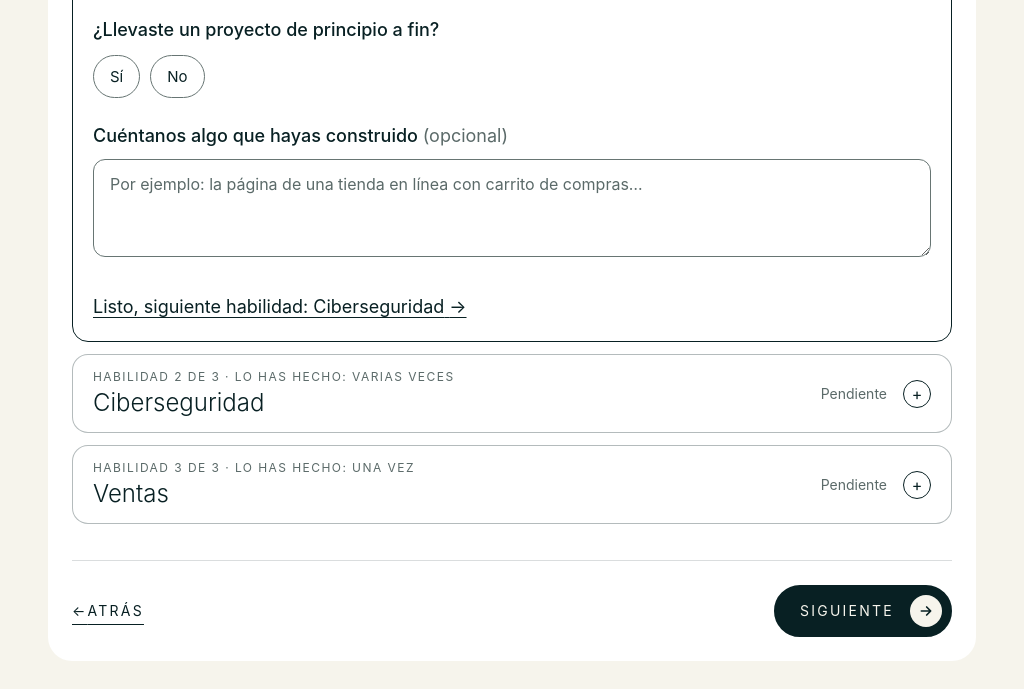
Test: ProfundizarView › "Listo, siguiente habilidad" abre la siguiente y lleva el foco a su título; la última no lo tiene
The width and height of the screenshot is (1024, 689).
(page scrolled)
Step 1. Click the button "Listo, siguiente habilidad: Ciberseguridad" → (280, 307), box [93, 293, 466, 322]
(page scrolled)
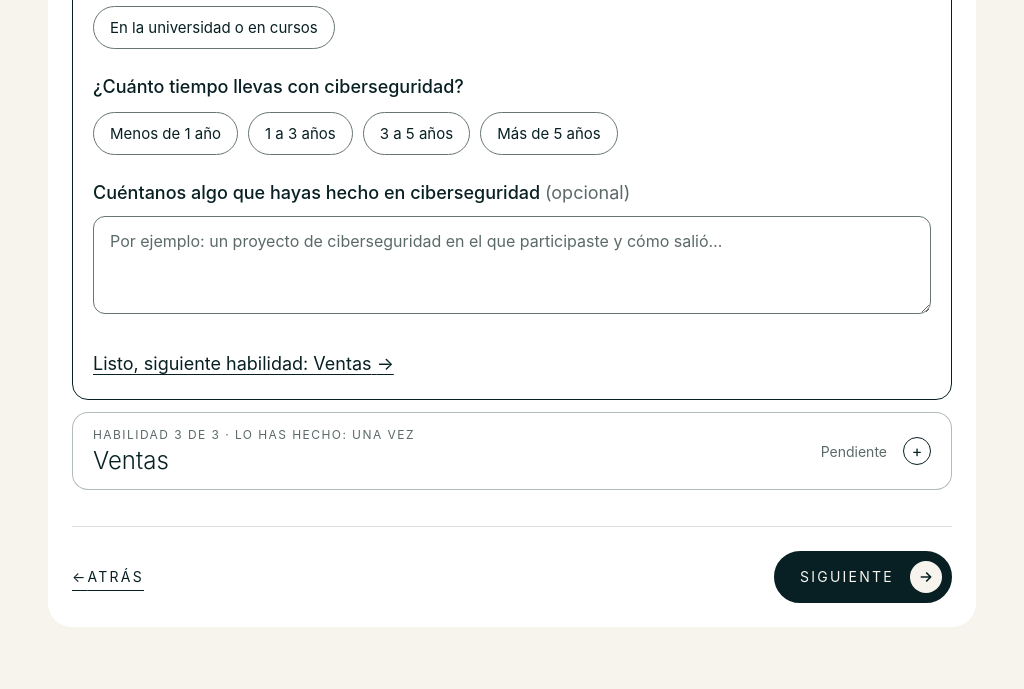
Step 2. Click the button "Listo, siguiente habilidad: Ventas →" → (243, 364), box [93, 350, 394, 379]
(page scrolled)
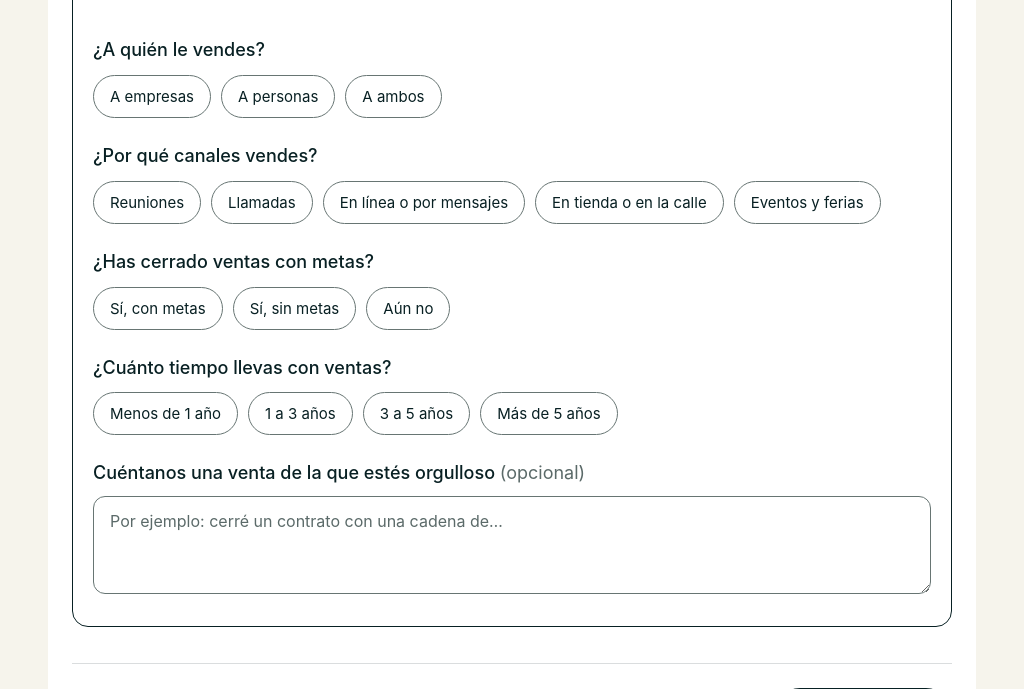
Expected: the button "Listo, siguiente habilidad" is gone
